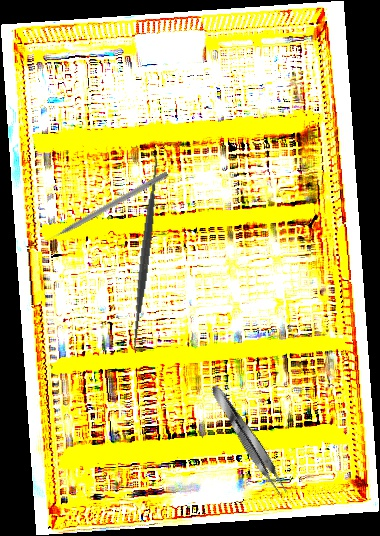Pusher: (39, 169, 169, 247)
Spatula Surgical: (122, 152, 168, 352)
Tissue Forceps: (206, 381, 292, 499)
